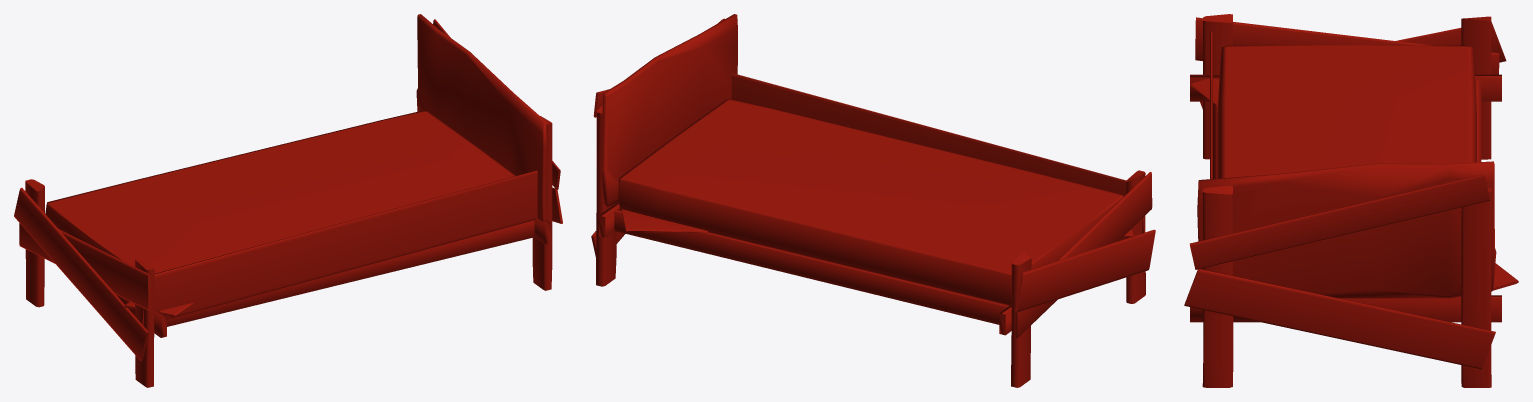
File: Old_Bed.fbx
3 views of the same model, side by side, from view 1: azimuth 30°, elevation 25°; view 2: azimuth 150°, elevation 25°; view 3: azimuth 270°, elevation 25° (orthographic). The views are drawn at different scales.
Visible parts, largest first — view 1: OldBed; view 2: OldBed; view 3: OldBed.
Boxes of the visible parts, <box> form: OldBed: <box>14,14,562,387</box>; OldBed: <box>591,14,1155,387</box>; OldBed: <box>1184,14,1518,387</box>.
Bounding box in the file's own units: 2392 × 1033 × 1423.
